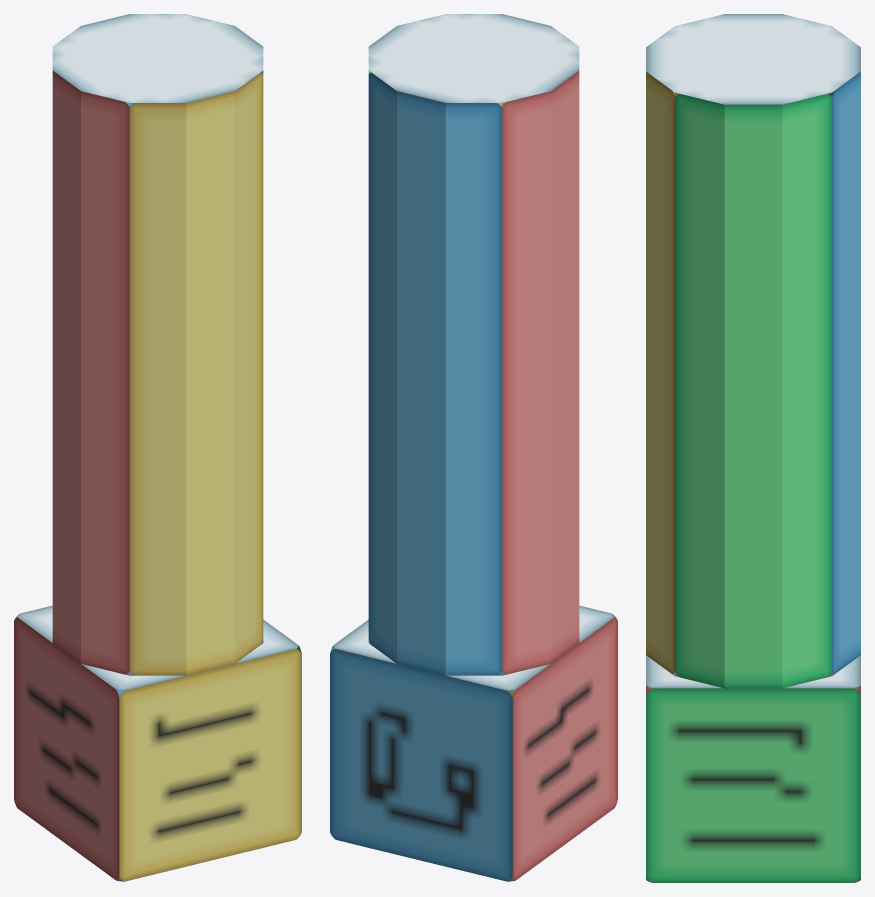
The model's file is gas_centrifuge.obj.
3 renders of one model, left to right at view 1: azimuth 30°, elevation 25°; view 2: azimuth 150°, elevation 25°; view 3: azimuth 270°, elevation 25°, orthographic.
Visible parts, largest first — view 1: cylinder, cube; view 2: cylinder, cube; view 3: cylinder, cube.
Part boxes in pixels (left/top/right/bottom): cylinder: left=52, top=14, right=263, bottom=675; cube: left=14, top=605, right=301, bottom=881; cylinder: left=368, top=14, right=579, bottom=675; cube: left=330, top=605, right=617, bottom=881; cylinder: left=646, top=14, right=860, bottom=688; cube: left=646, top=655, right=860, bottom=882.
Size of the model in its own units: 1 by 4 by 1.
